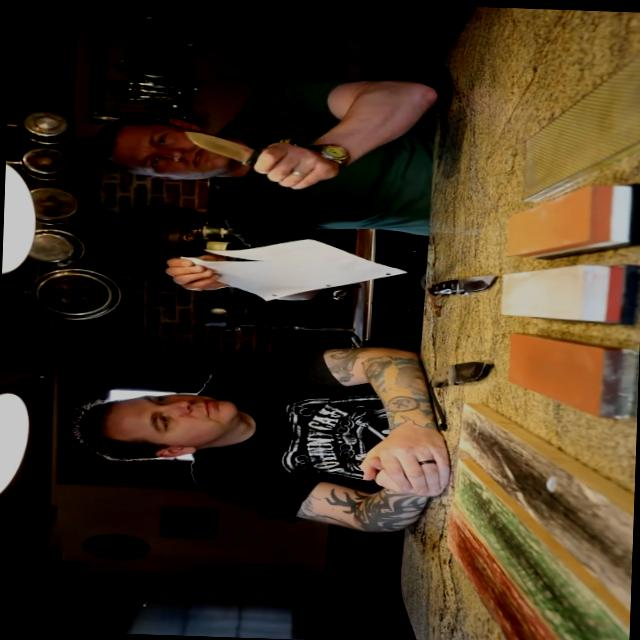knife: (170, 120, 308, 192)
